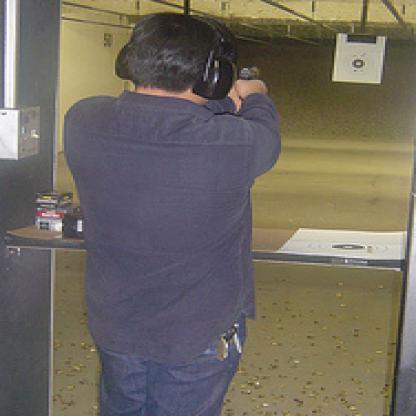gun: (228, 55, 270, 103)
